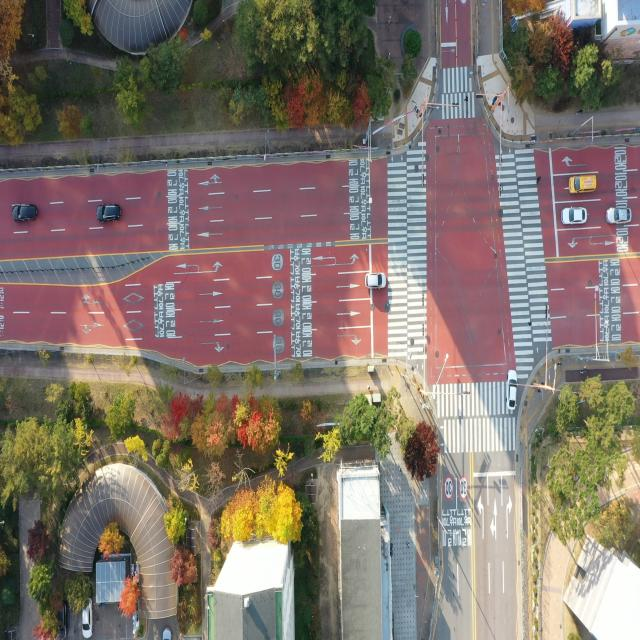car: (569, 171, 598, 196), (15, 204, 39, 222), (608, 206, 632, 224), (562, 207, 585, 225), (98, 204, 121, 222), (508, 370, 518, 411), (364, 273, 386, 289), (82, 606, 90, 639)
